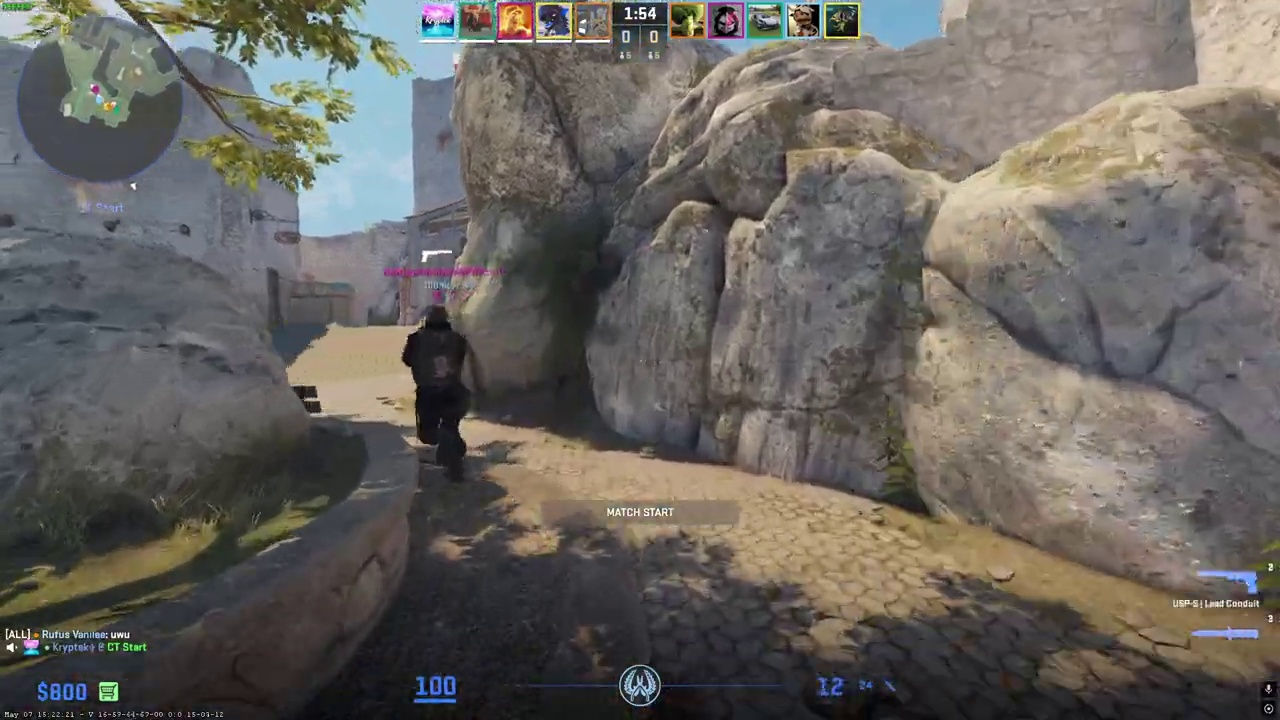CT: (401, 304, 483, 488)
